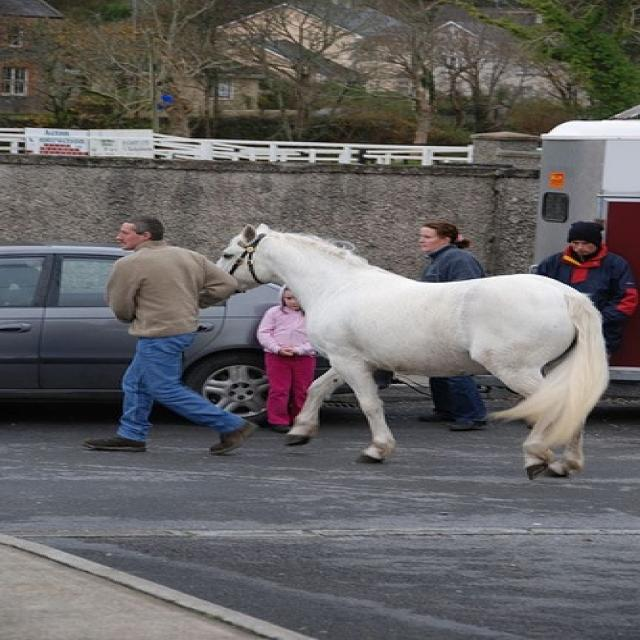light_vehicle: (0, 245, 395, 430)
